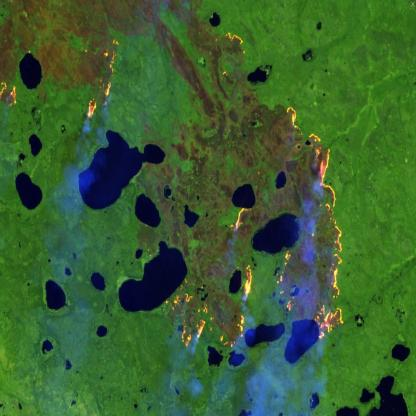fire: (310, 127, 346, 343), (278, 245, 298, 317), (284, 99, 305, 146), (240, 256, 259, 306), (100, 34, 122, 74), (232, 200, 252, 238), (223, 26, 247, 57), (0, 76, 23, 106), (82, 94, 102, 126), (235, 310, 250, 348), (101, 78, 115, 96), (219, 69, 231, 82), (213, 30, 219, 47), (28, 46, 33, 54), (85, 46, 89, 54)
